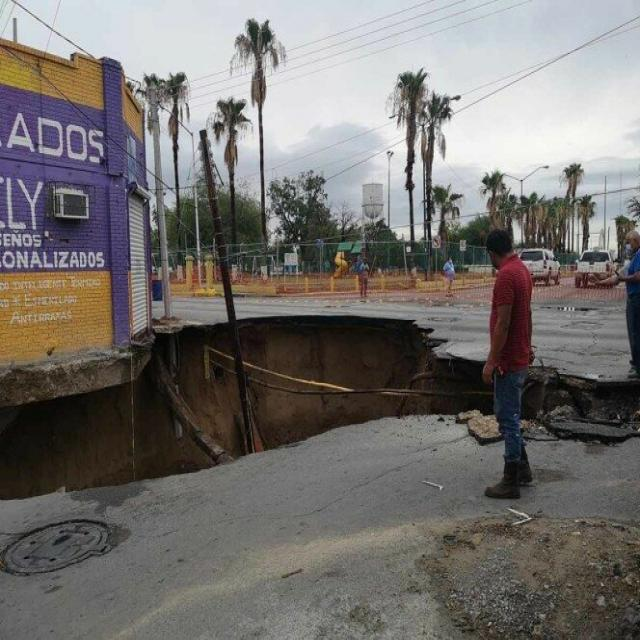Pothole: (16, 307, 488, 514)
